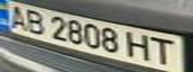0: (81, 21, 103, 51)
2: (45, 14, 69, 43)
8: (100, 25, 124, 55), (63, 18, 84, 46)
A: (3, 2, 30, 30)
B: (21, 7, 48, 35)
H: (124, 29, 154, 61)
T: (148, 35, 181, 66)
